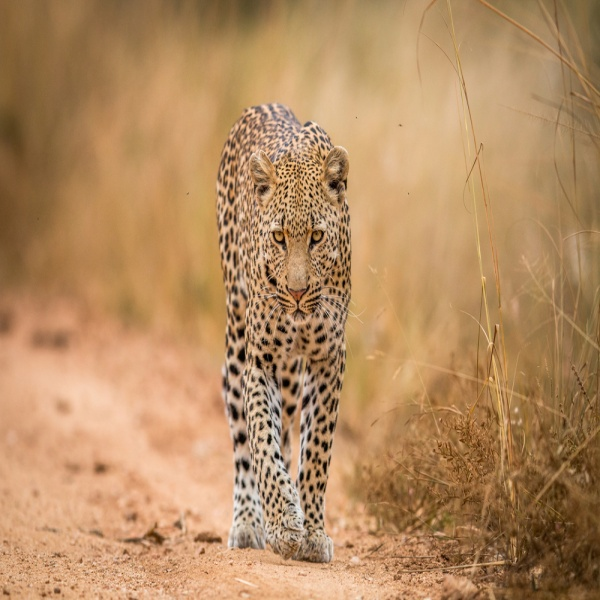Leopard: (215, 98, 359, 569)
